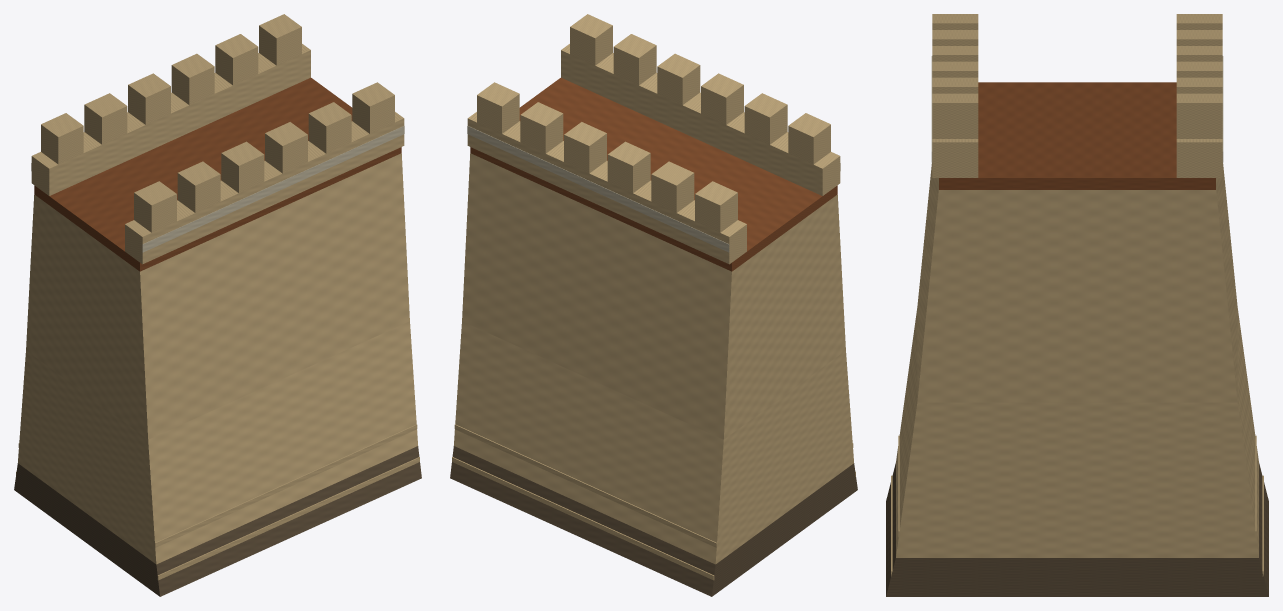
Rendered from Berber_Wall_Age3_slope_up_6m.fbx.
The picture shows the model from 3 angles, left to right: view 1: azimuth 30°, elevation 25°; view 2: azimuth 150°, elevation 25°; view 3: azimuth 270°, elevation 25°; orthographic projection. The views are drawn at different scales.
Parts seen in each view (by area): view 1: slope_up_6m_rammed_curtain_upper, slope_up_6m_rammed_curtain_lower, slope_up_6m_walk_deck, slope_up_6m_battered_stone_foot, slope_up_6m_parapet.001, slope_up_6m_parapet, slope_up_6m_owner_painted_band, slope_up_6m_merlon.004, slope_up_6m_merlon.002, slope_up_6m_merlon.001, slope_up_6m_merlon.007, slope_up_6m_merlon (+11 smaller); view 2: slope_up_6m_rammed_curtain_upper, slope_up_6m_rammed_curtain_lower, slope_up_6m_walk_deck, slope_up_6m_battered_stone_foot, slope_up_6m_parapet, slope_up_6m_parapet.001, slope_up_6m_owner_painted_band.001, slope_up_6m_merlon.003, slope_up_6m_merlon.010, slope_up_6m_merlon.001, slope_up_6m_merlon.008, slope_up_6m_merlon.004 (+11 smaller); view 3: slope_up_6m_rammed_curtain_upper, slope_up_6m_rammed_curtain_lower, slope_up_6m_walk_deck, slope_up_6m_battered_stone_foot, slope_up_6m_parapet, slope_up_6m_parapet.001, slope_up_6m_merlon.005, slope_up_6m_merlon.011, slope_up_6m_merlon.004, slope_up_6m_merlon.010, slope_up_6m_merlon.009, slope_up_6m_merlon.003 (+8 smaller).
Boxes of the visible parts, x1,y1,x2,y2 form: slope_up_6m_rammed_curtain_upper: (26, 153, 409, 439); slope_up_6m_rammed_curtain_lower: (18, 321, 417, 564); slope_up_6m_walk_deck: (34, 77, 401, 271); slope_up_6m_battered_stone_foot: (14, 446, 421, 596); slope_up_6m_parapet.001: (31, 44, 310, 195); slope_up_6m_parapet: (125, 112, 404, 264); slope_up_6m_owner_painted_band: (142, 125, 404, 252); slope_up_6m_merlon.004: (308, 102, 351, 153); slope_up_6m_merlon.002: (221, 141, 264, 192); slope_up_6m_merlon.001: (177, 161, 220, 212); slope_up_6m_merlon.007: (84, 94, 127, 144); slope_up_6m_merlon: (134, 181, 176, 232); slope_up_6m_rammed_curtain_upper: (462, 153, 845, 439); slope_up_6m_rammed_curtain_lower: (454, 321, 853, 564); slope_up_6m_walk_deck: (470, 77, 837, 271); slope_up_6m_battered_stone_foot: (450, 446, 857, 596); slope_up_6m_parapet: (561, 44, 840, 195); slope_up_6m_parapet.001: (467, 112, 746, 264); slope_up_6m_owner_painted_band.001: (467, 125, 729, 252); slope_up_6m_merlon.003: (657, 53, 700, 105); slope_up_6m_merlon.010: (520, 102, 563, 153); slope_up_6m_merlon.001: (744, 93, 787, 144); slope_up_6m_merlon.008: (607, 141, 650, 192); slope_up_6m_merlon.004: (613, 34, 656, 85); slope_up_6m_rammed_curtain_upper: (917, 163, 1237, 402); slope_up_6m_rammed_curtain_lower: (896, 308, 1258, 557); slope_up_6m_walk_deck: (939, 82, 1215, 189); slope_up_6m_battered_stone_foot: (886, 463, 1268, 596); slope_up_6m_parapet: (932, 139, 978, 177); slope_up_6m_parapet.001: (1176, 139, 1222, 177); slope_up_6m_merlon.005: (932, 103, 978, 138); slope_up_6m_merlon.011: (1176, 103, 1222, 138); slope_up_6m_merlon.004: (932, 77, 978, 93); slope_up_6m_merlon.010: (1176, 77, 1222, 93); slope_up_6m_merlon.009: (1176, 61, 1222, 77); slope_up_6m_merlon.003: (932, 61, 978, 77).
Size of the model in its own units: 600 by 936 by 580.
4 materials, 4 textured.
